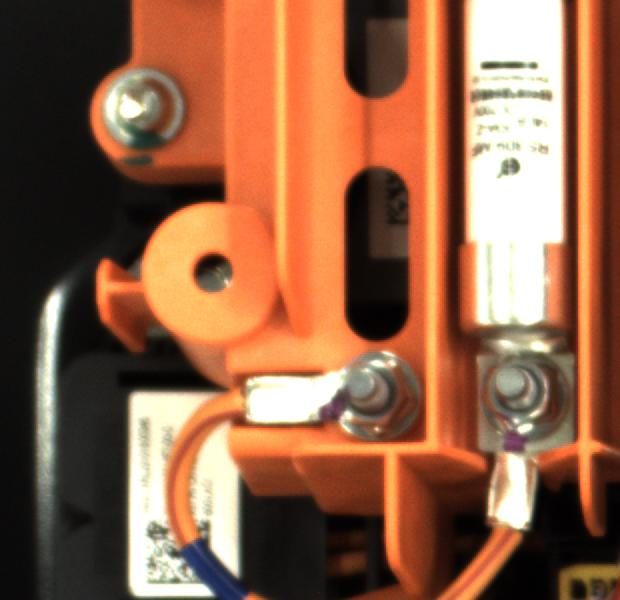screw_m: (94, 62, 211, 162)
screw_s: (330, 350, 426, 449), (478, 351, 572, 443)
